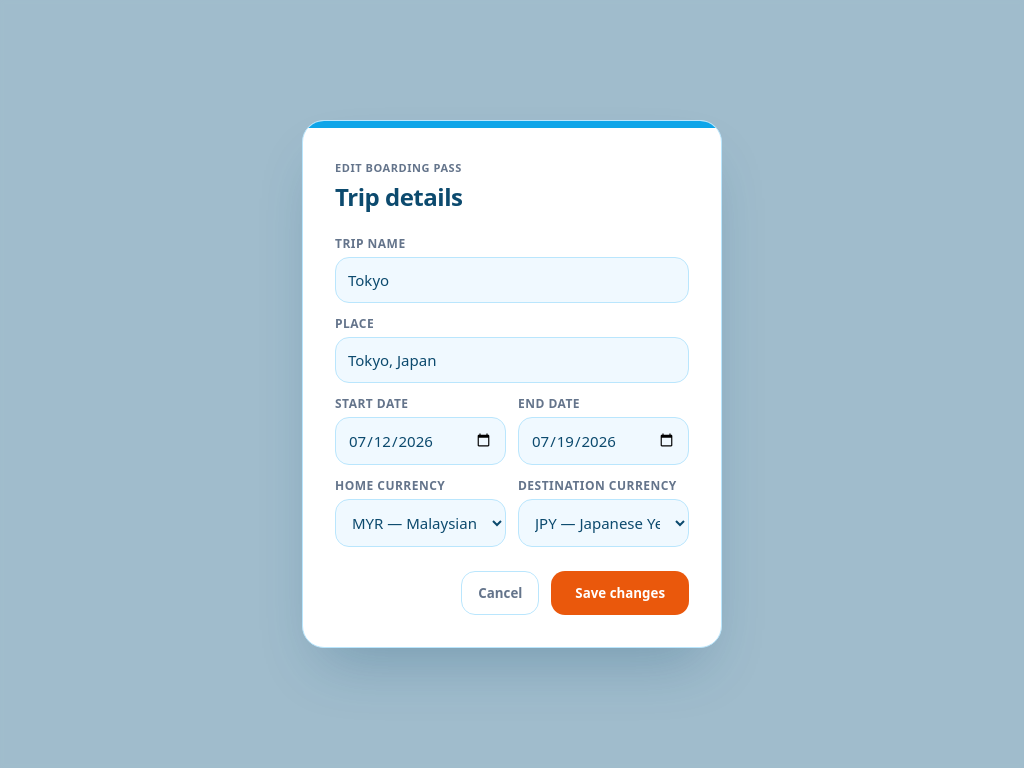
Scenario: EditTripModal › blocks end before start
The width and height of the screenshot is (1024, 768).
Type "2026-07-01" into the date field labelled "End date".
click(604, 440); type("2026-07-01")  # box [518,416,689,464]
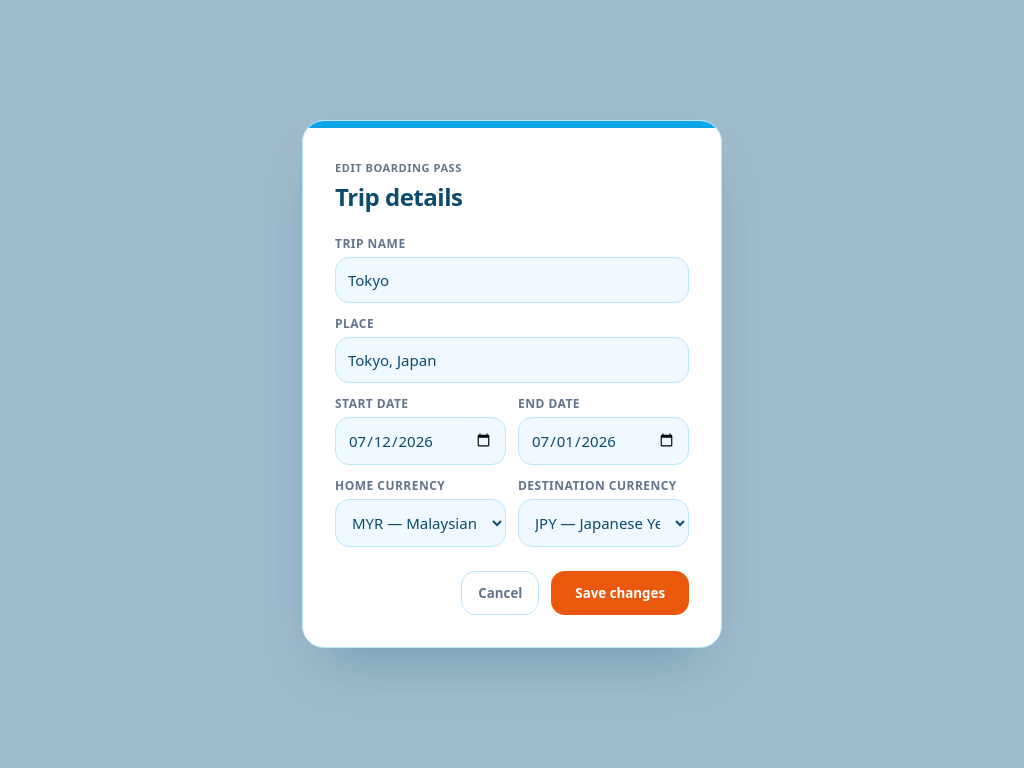
Click the button "Save changes".
click(620, 592)  # box [551,570,689,614]
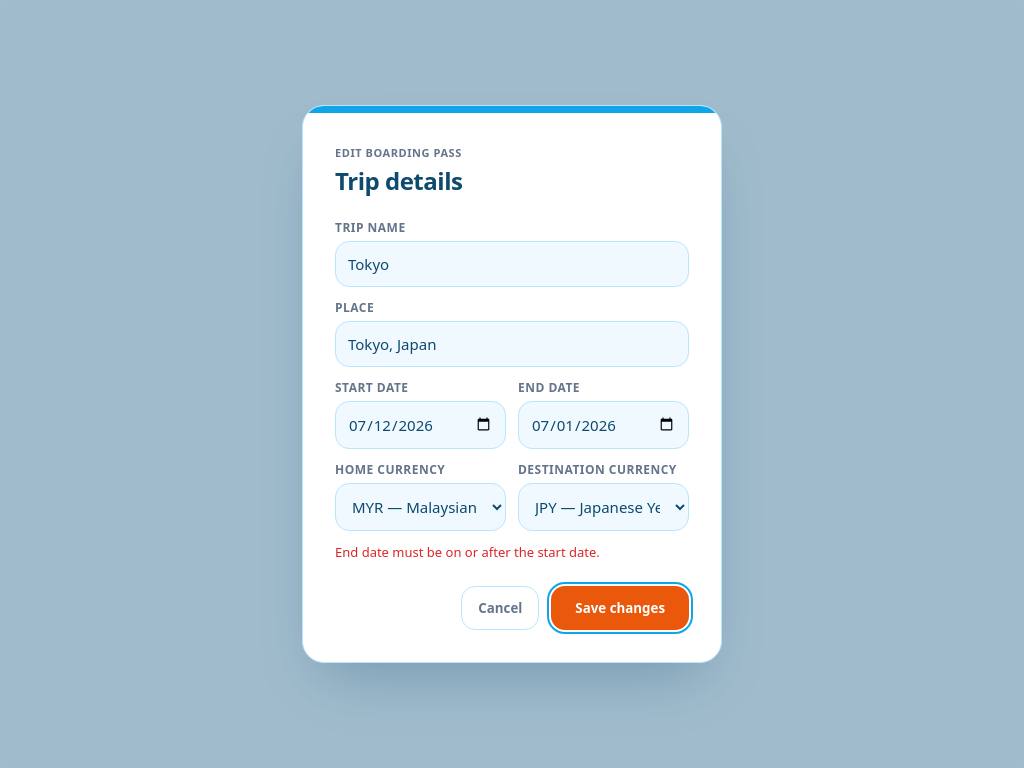
Check: the text "End date must be on or after the start date." is shown, box [335,543,600,561]
